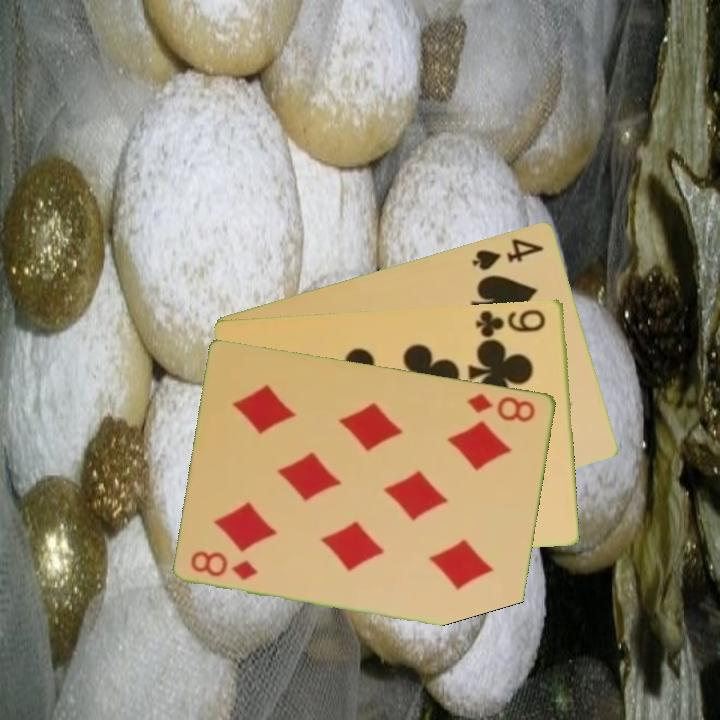4s: (469, 234, 547, 273)
8d: (464, 389, 539, 425), (188, 547, 261, 583)
9c: (472, 305, 549, 340)
